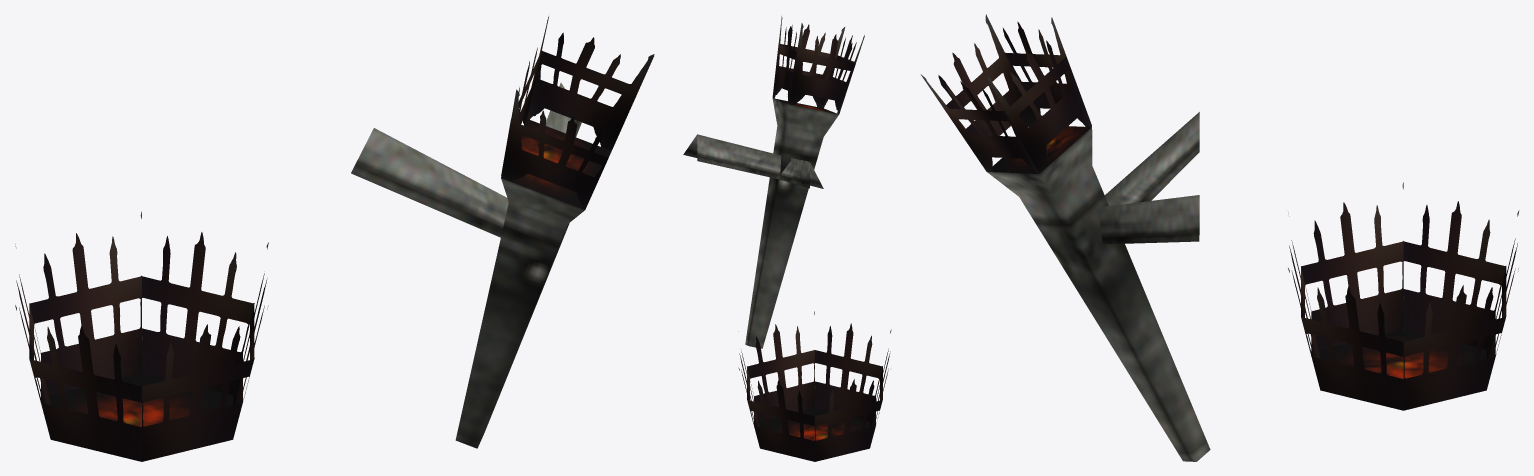
The model's file is huoba_001.FBX.
3 views of the same model, side by side, from view 1: azimuth 30°, elevation 25°; view 2: azimuth 150°, elevation 25°; view 3: azimuth 270°, elevation 25° (orthographic). The views are drawn at different scales.
Visible parts, largest first — view 1: huoba_002, huoba_001; view 2: huoba_002, huoba_001; view 3: huoba_002, huoba_001.
Boxes of the visible parts, left/top/right/bottom form: huoba_002: left=351, top=16, right=654, bottom=448; huoba_001: left=15, top=211, right=268, bottom=461; huoba_002: left=683, top=16, right=864, bottom=348; huoba_001: left=738, top=311, right=891, bottom=461; huoba_002: left=920, top=14, right=1210, bottom=461; huoba_001: left=1288, top=182, right=1519, bottom=410.
Bounding box in the file's own units: 76.38 × 78.44 × 94.97.
Materials: 1 (1 with a texture image).
